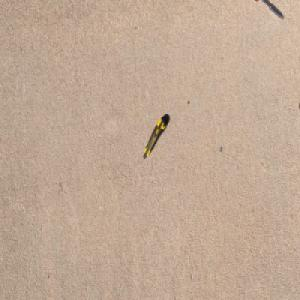Cutter: (142, 115, 168, 160)
